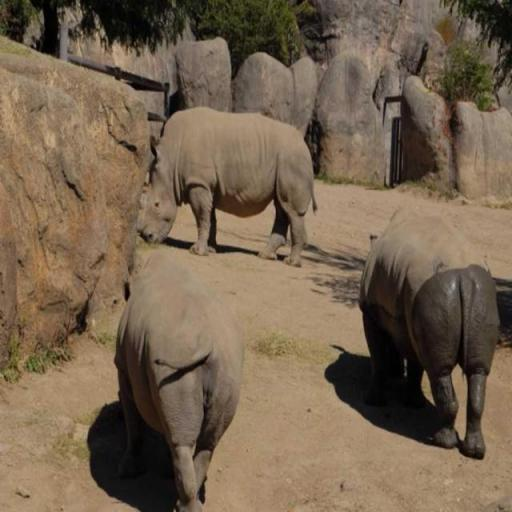Rhino: (358, 203, 501, 459), (114, 247, 244, 511), (136, 105, 318, 268)
